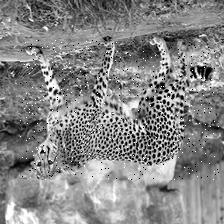Cheetha: (19, 39, 218, 179)
